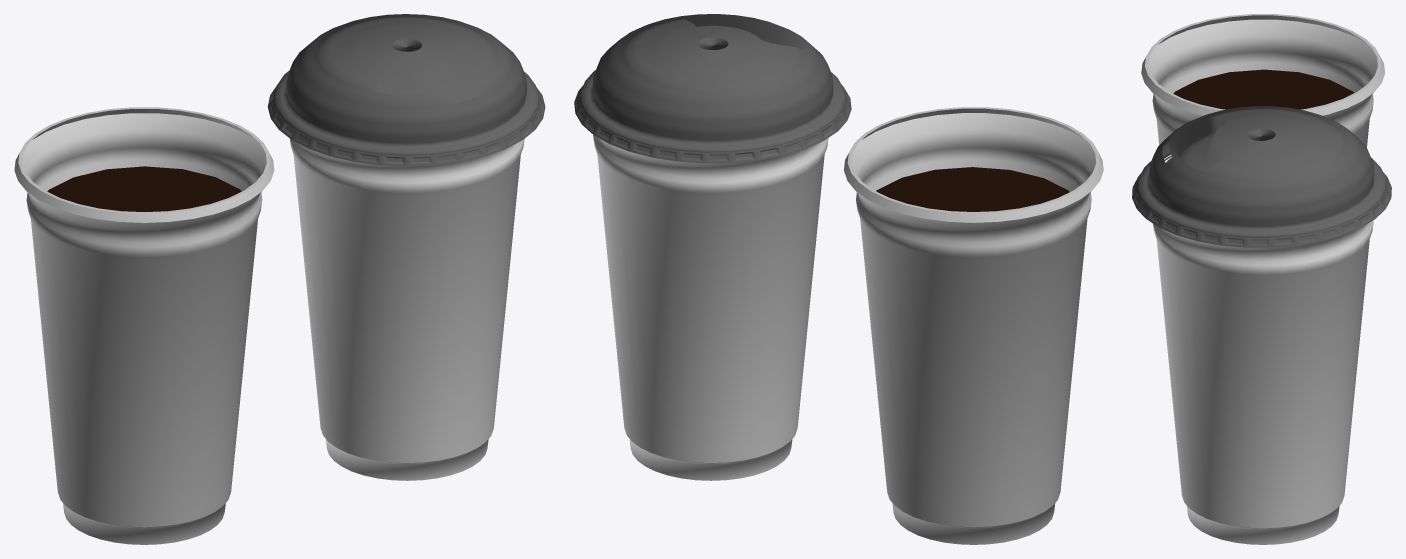
The model's file is cup.gltf.
3 views of the same model, side by side, from view 1: azimuth 30°, elevation 25°; view 2: azimuth 150°, elevation 25°; view 3: azimuth 270°, elevation 25° (orthographic). The views are drawn at different scales.
Visible parts, largest first — view 1: node-0; view 2: node-0; view 3: node-0.
Boxes of the visible parts, box(x1,y1,x2,y2) form: node-0: box(14, 14, 545, 544); node-0: box(574, 14, 1103, 544); node-0: box(1132, 14, 1391, 544).
Size of the model in its own units: 134 by 105 by 65.23.
